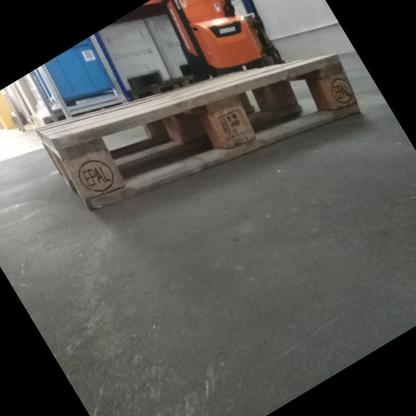BoxFace: (33, 49, 368, 217)
